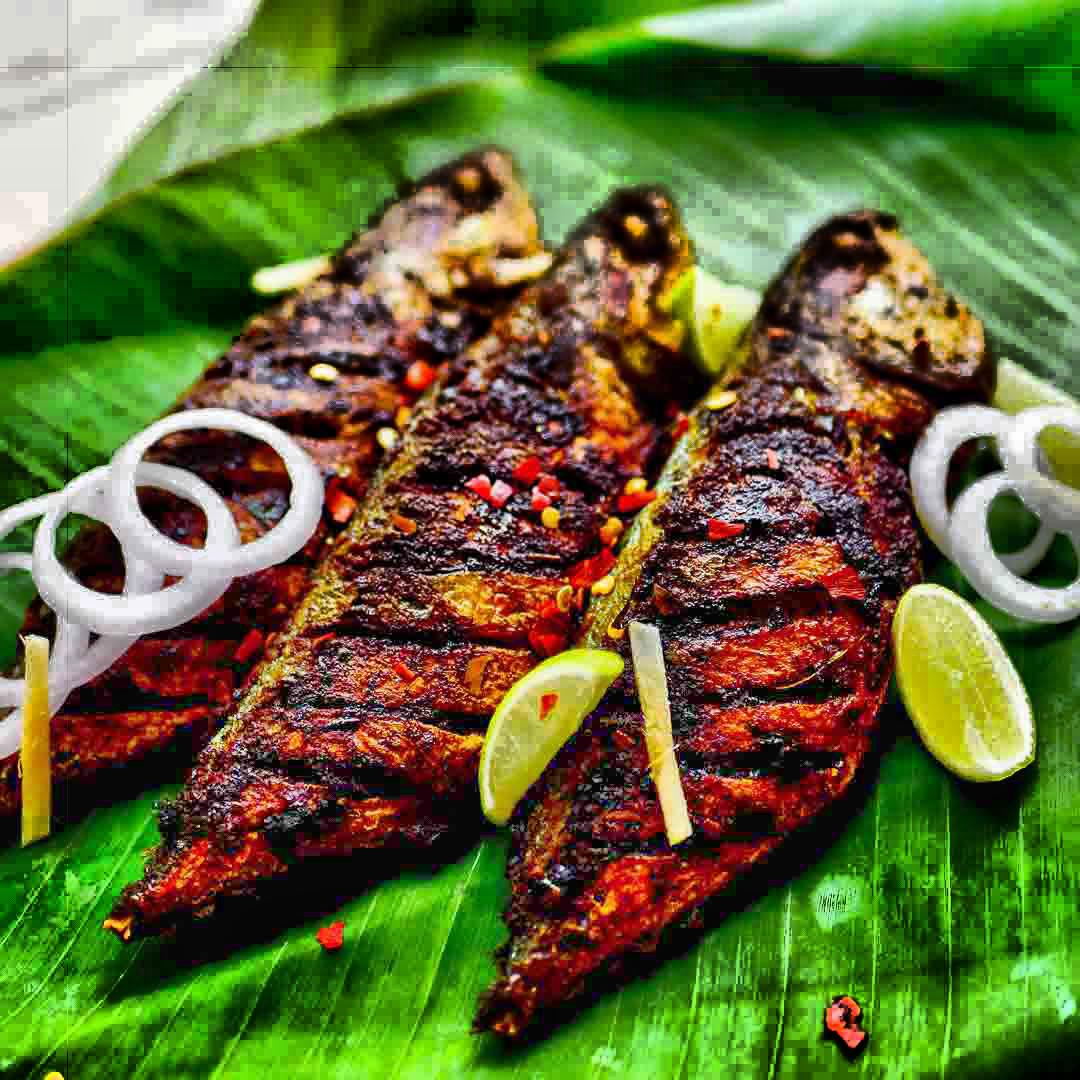fish: (560, 142, 959, 1027)
